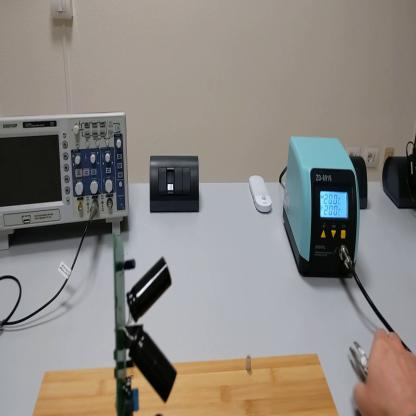hand: (354, 331, 416, 415)
high voltage board: (104, 231, 178, 416)
oscilloscope: (2, 110, 133, 252)
pliers: (350, 339, 369, 383)
socket: (383, 149, 416, 211), (349, 156, 370, 211)
welder station: (282, 129, 361, 284)
working area: (34, 356, 339, 416)
